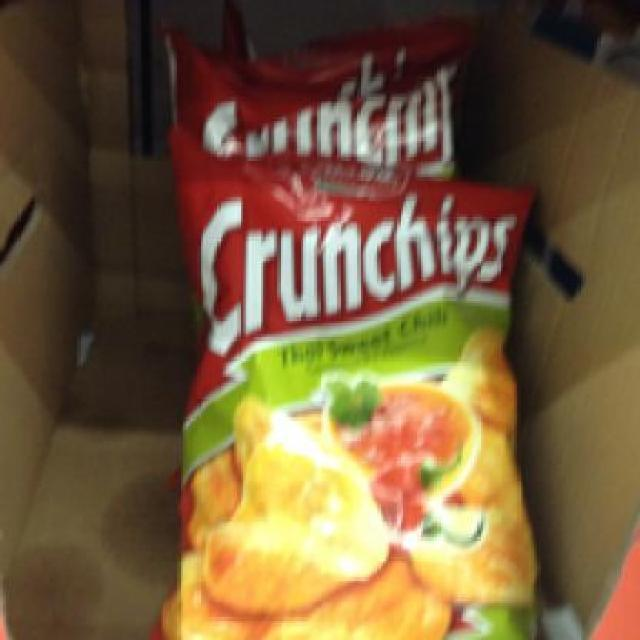Chips: (166, 134, 534, 637)
